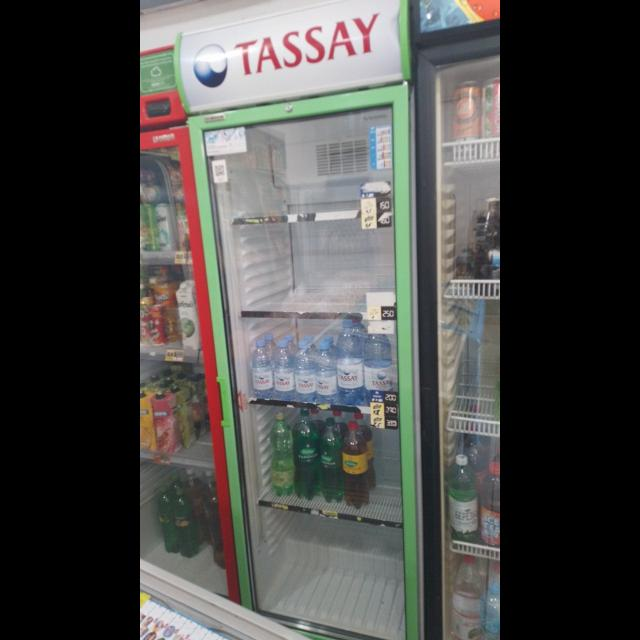Cooling-Display: (174, 1, 418, 640)
